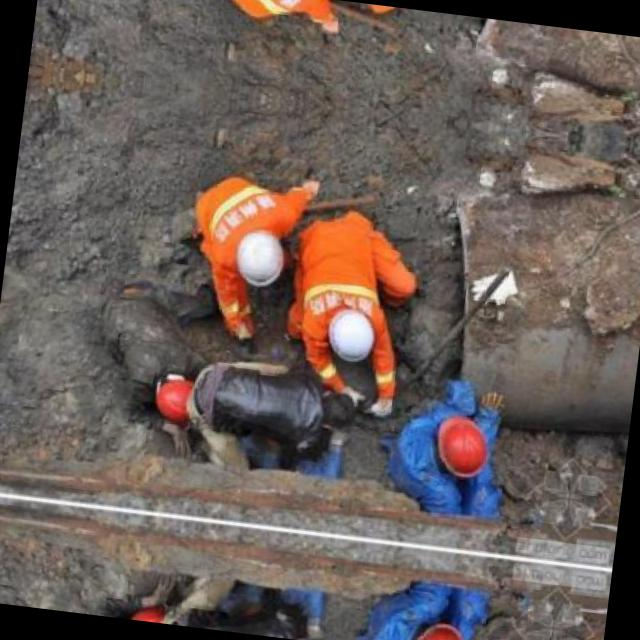helmet: (426, 410, 491, 476), (320, 304, 384, 368), (230, 230, 289, 289), (152, 373, 202, 424), (403, 619, 465, 640), (126, 602, 174, 623)
